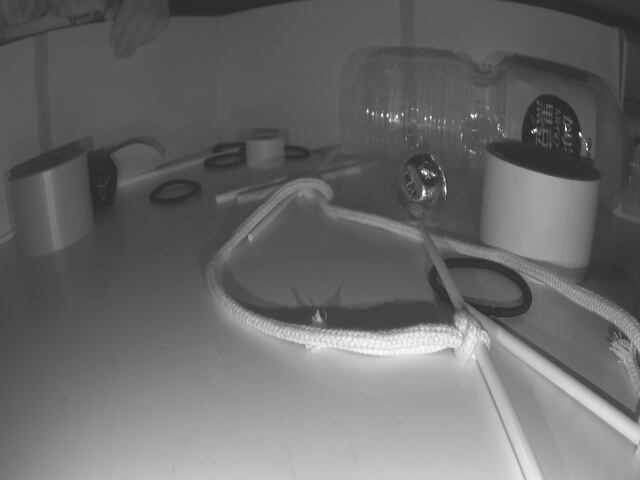Dead: (85, 157, 118, 205)
Live: (400, 150, 448, 220)
